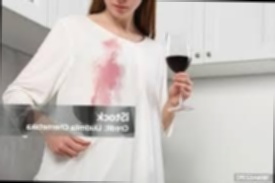wine: (87, 54, 123, 103), (101, 37, 123, 59)
